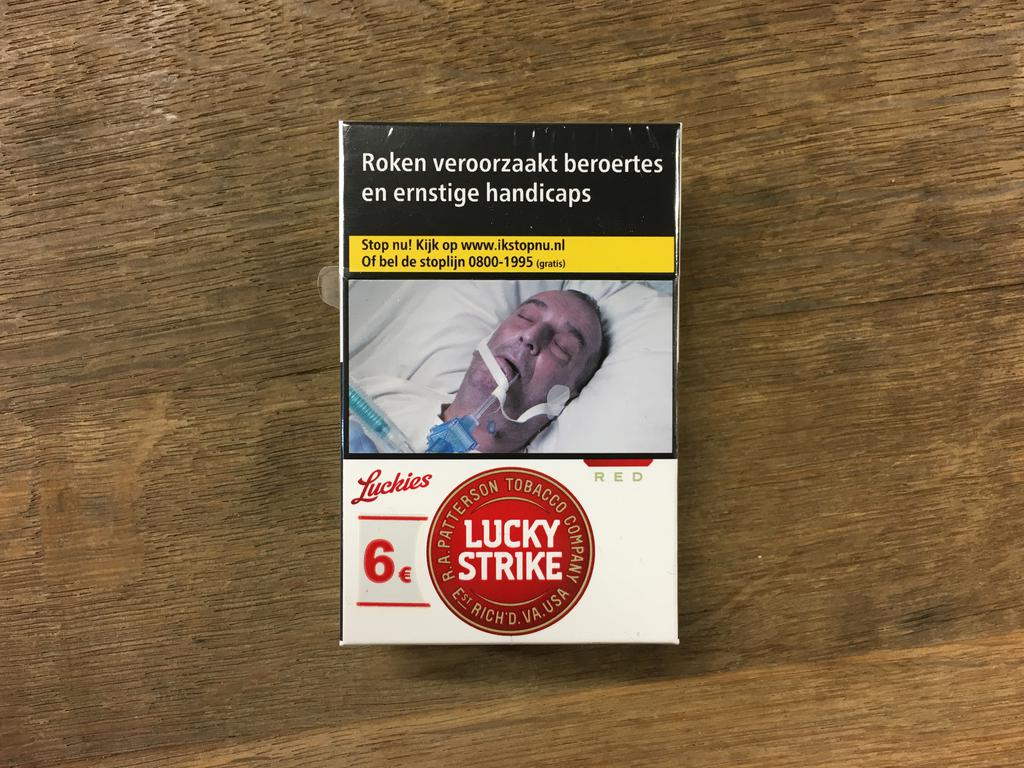lucky_strike_red: (334, 128, 681, 644)
